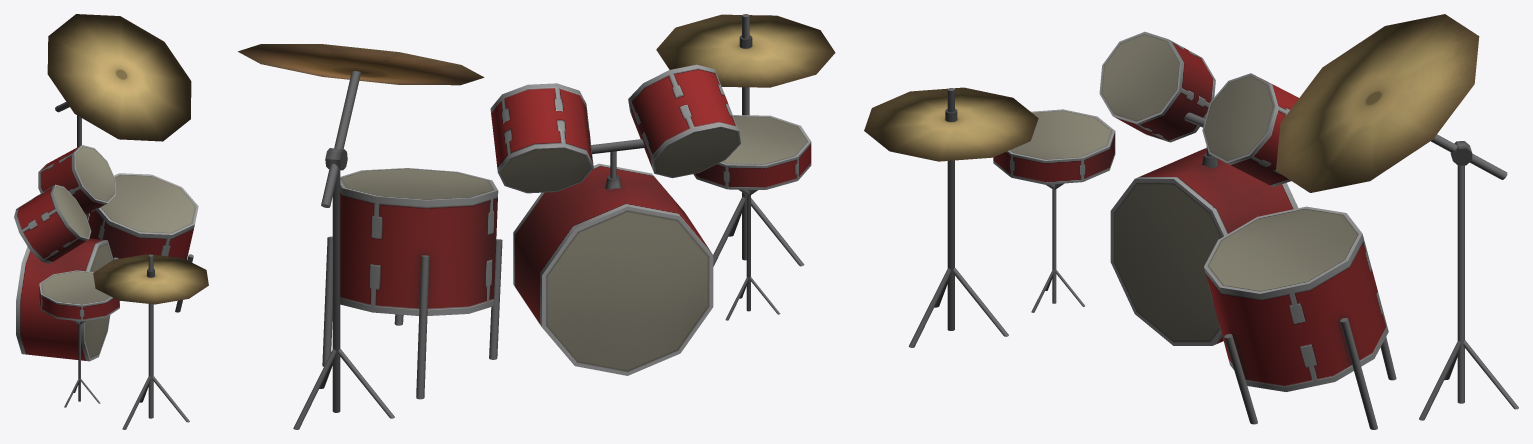
Rendered from bateria.fbx.
The picture shows the model from 3 angles, left to right: view 1: azimuth 30°, elevation 25°; view 2: azimuth 150°, elevation 25°; view 3: azimuth 270°, elevation 25°; orthographic projection. The views are drawn at different scales.
Parts seen in each view (by area): view 1: bateria; view 2: bateria; view 3: bateria.
Boxes of the visible parts, <box> form: bateria: <box>14,14,208,429</box>; bateria: <box>238,14,835,429</box>; bateria: <box>864,14,1518,429</box>.
Bounding box in the file's own units: 64.95 × 60.63 × 97.83.
